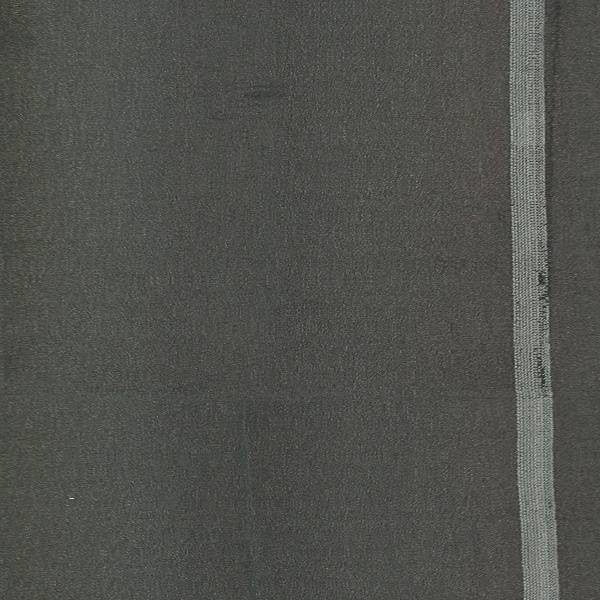road_damage: (534, 266, 554, 406)
